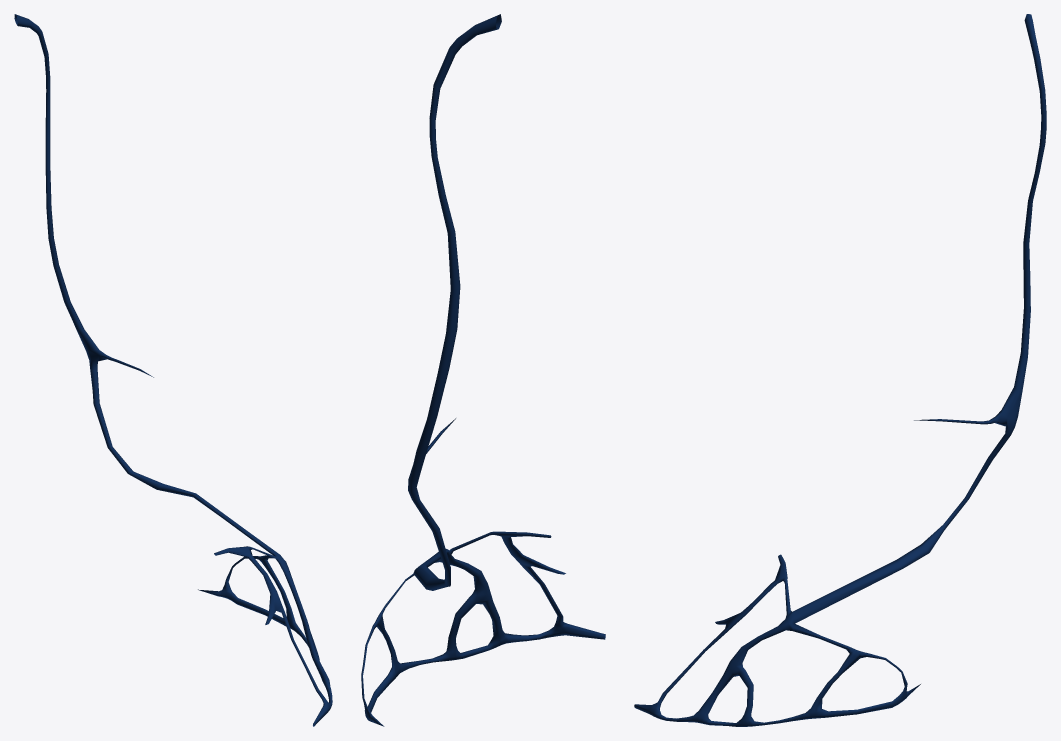
File: L vena digitales lateralis.fbx
The picture shows the model from 3 angles, left to right: view 1: azimuth 30°, elevation 25°; view 2: azimuth 150°, elevation 25°; view 3: azimuth 270°, elevation 25°; orthographic projection. The views are drawn at different scales.
Visible parts, largest first — view 1: L vena digitales lateralis, L vena digitales lateralis low; view 2: L vena digitales lateralis, L vena digitales lateralis low; view 3: L vena digitales lateralis, L vena digitales lateralis low.
Boxes of the visible parts, box(x1,y1,x2,y2) form: L vena digitales lateralis: box(14, 14, 332, 726); L vena digitales lateralis low: box(15, 20, 331, 722); L vena digitales lateralis: box(361, 14, 605, 726); L vena digitales lateralis low: box(361, 16, 603, 721); L vena digitales lateralis: box(634, 14, 1046, 726); L vena digitales lateralis low: box(641, 14, 1046, 726).
Size of the model in its own units: 3.78 by 12.34 by 7.24.
